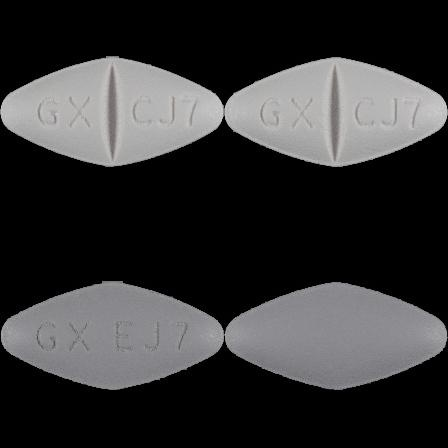49702-203: (0, 0, 224, 224)
